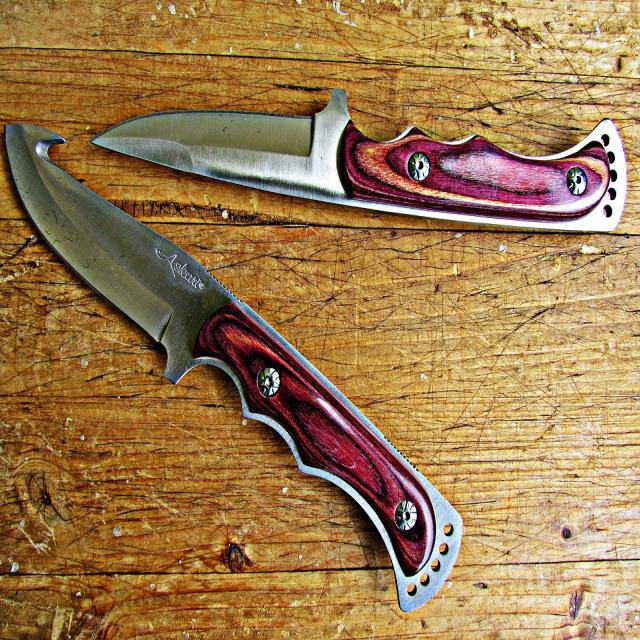Knife: (6, 125, 460, 609), (95, 90, 626, 229)
